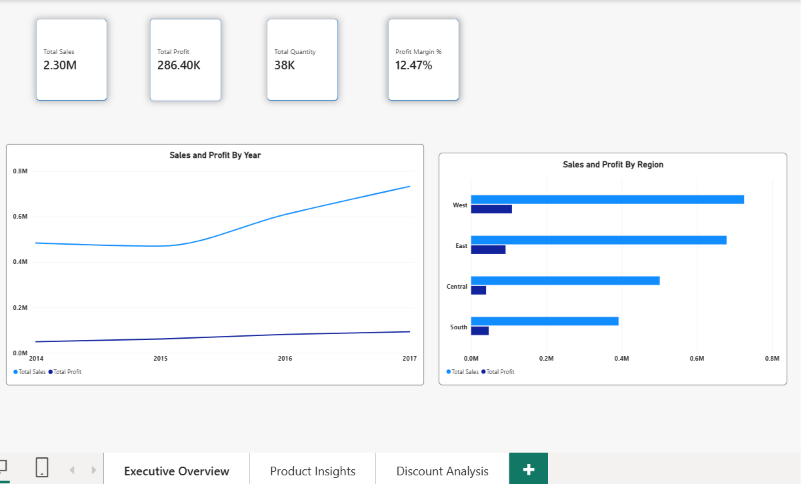

This screenshot's page, from the dashboard's own definition file:
{"tool":"powerbi","page":{"name":"Executive Overview","canvas":[1920,1080],"ordinal":0},"visuals":[{"type":"cardVisual","fields":{"Data":["superstore_cleaned.Total Sales"]},"box":[95.4,45.3,170,195.6],"z":0},{"type":"cardVisual","fields":{"Data":["superstore_cleaned.Total Profit"]},"box":[367.4,45.3,170,195.6],"z":1000},{"type":"cardVisual","fields":{"Data":["superstore_cleaned.Total Quantity"]},"box":[646.6,45.3,170,195.6],"z":2000},{"type":"cardVisual","fields":{"Data":["superstore_cleaned.Profit Margin %"]},"box":[935.4,45.4,170,195],"z":3000},{"type":"lineChart","title":"Sales and Profit By Year","fields":{"Category":["superstore_cleaned.Order_Date.Variation.Date Hierarchy.Year","superstore_cleaned.Order_Date.Variation.Date Hierarchy.Month","superstore_cleaned.Order_Date.Variation.Date Hierarchy.Day"],"Y":["superstore_cleaned.Total Sales","superstore_cleaned.Total Profit"]},"box":[23.9,343.6,997.3,575],"z":4000},{"type":"clusteredBarChart","title":"Sales and Profit By Region","fields":{"Category":["superstore_cleaned.Region"],"Y":["superstore_cleaned.Total Sales","superstore_cleaned.Total Profit"]},"box":[1057,365,830.3,553.5],"z":5000}]}

Visuals, with their boxes on the page's 1920x1080 design canvas (x1, y1, x2, y2). These are canvas units, not pixel positions in the 801x484 screenshot, which may show the page scaled, cropped or inside an application window:
cardVisual - superstore_cleaned.Total Sales: (95, 45, 265, 241)
cardVisual - superstore_cleaned.Total Profit: (367, 45, 537, 241)
cardVisual - superstore_cleaned.Total Quantity: (647, 45, 817, 241)
cardVisual - superstore_cleaned.Profit Margin %: (935, 45, 1105, 240)
"Sales and Profit By Year" lineChart: (24, 344, 1021, 919)
"Sales and Profit By Region" clusteredBarChart: (1057, 365, 1887, 918)
